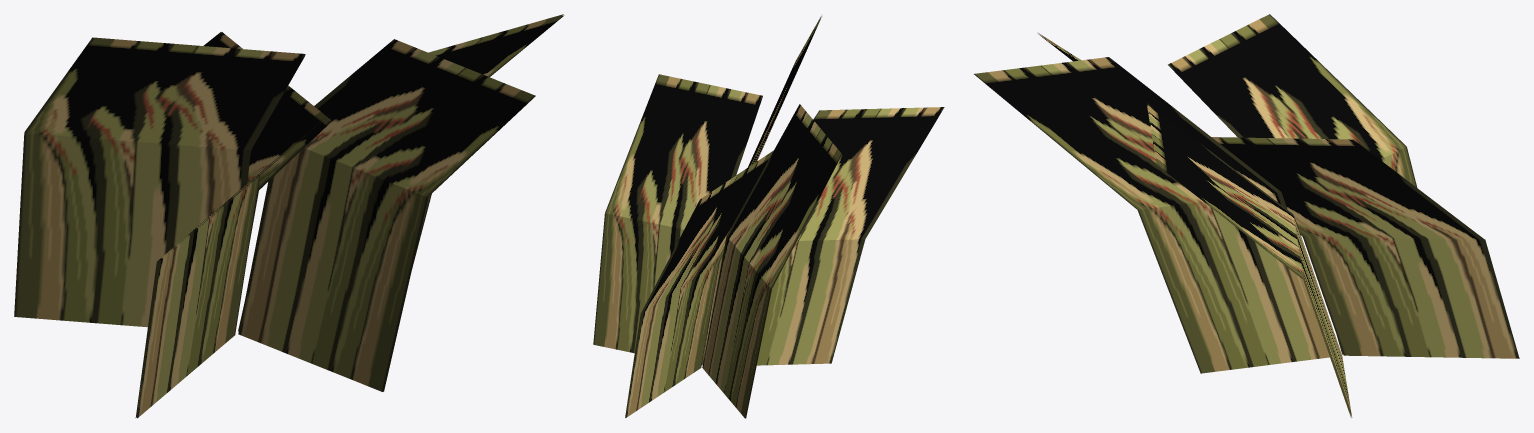
The model's file is SM_VG07_GrassDrooping.fbx.
3 renders of one model, left to right at view 1: azimuth 30°, elevation 25°; view 2: azimuth 150°, elevation 25°; view 3: azimuth 270°, elevation 25°, orthographic. The views are drawn at different scales.
Visible parts, largest first — view 1: VG07_Grass; view 2: VG07_Grass; view 3: VG07_Grass.
Boxes of the visible parts, x1,y1,x2,y2 form: VG07_Grass: (14, 14, 564, 418); VG07_Grass: (593, 16, 944, 418); VG07_Grass: (974, 14, 1519, 417).
Bounding box in the file's own units: 0.5215 × 0.5009 × 0.8316.
